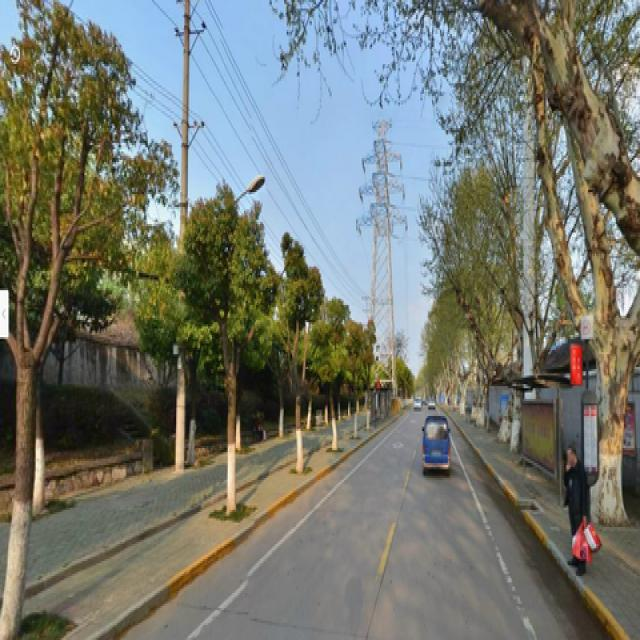cinn: (185, 205, 259, 516), (268, 250, 313, 469)
